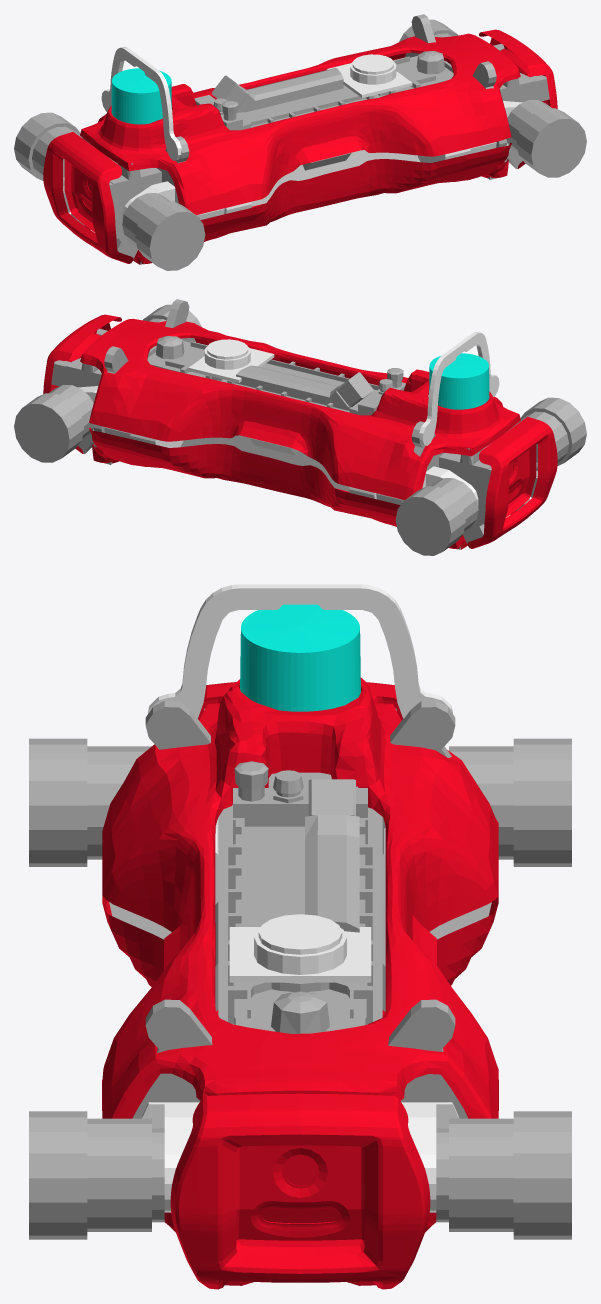
Rendered from anymal_base.dae.
3 renders of one model, top to bottom at view 1: azimuth 30°, elevation 25°; view 2: azimuth 150°, elevation 25°; view 3: azimuth 270°, elevation 25°, orthographic. The views are drawn at different scales.
Parts seen in each view (by area): view 1: top_shell, base, bottom_shell, face_shell_rear, RH_HFE_drive, RF_HFE_drive, lidar, LH_HFE_drive, inspection_payload_mount, lidar.001, face_shell_front, battery (+4 smaller); view 2: top_shell, base, bottom_shell, face_shell_rear, LH_HFE_drive, LF_HFE_drive, lidar, RH_HFE_drive, inspection_payload_mount, lidar.001, face_shell_front, battery (+4 smaller); view 3: top_shell, base, face_shell_front, LF_HFE_drive, RF_HFE_drive, lidar, LH_HFE_drive, RH_HFE_drive, lidar.001, inspection_payload_mount, bottom_shell, LF_hip_fixed (+4 smaller).
Boxes of the visible parts, x1=… form: top_shell: x1=80, y1=33, x2=520, y2=214; base: x1=63, y1=14, x2=549, y2=264; bottom_shell: x1=133, y1=142, x2=511, y2=264; face_shell_rear: x1=43, y1=132, x2=133, y2=263; RH_HFE_drive: x1=122, y1=193, x2=205, y2=270; RF_HFE_drive: x1=506, y1=99, x2=586, y2=177; lidar: x1=111, y1=68, x2=171, y2=124; LH_HFE_drive: x1=14, y1=112, x2=82, y2=185; inspection_payload_mount: x1=326, y1=54, x2=412, y2=97; lidar.001: x1=101, y1=46, x2=181, y2=160; face_shell_front: x1=479, y1=29, x2=557, y2=168; battery: x1=251, y1=150, x2=420, y2=206; top_shell: x1=80, y1=318, x2=520, y2=499; base: x1=51, y1=299, x2=537, y2=549; bottom_shell: x1=89, y1=427, x2=467, y2=549; face_shell_rear: x1=467, y1=417, x2=557, y2=548; LH_HFE_drive: x1=395, y1=478, x2=478, y2=555; LF_HFE_drive: x1=14, y1=384, x2=94, y2=462; lidar: x1=429, y1=353, x2=489, y2=409; RH_HFE_drive: x1=518, y1=397, x2=586, y2=470; inspection_payload_mount: x1=188, y1=339, x2=274, y2=382; lidar.001: x1=419, y1=331, x2=499, y2=445; face_shell_front: x1=43, y1=314, x2=121, y2=453; battery: x1=180, y1=435, x2=349, y2=491; top_shell: x1=102, y1=677, x2=498, y2=1118; base: x1=132, y1=700, x2=467, y2=1282; face_shell_front: x1=170, y1=1093, x2=430, y2=1289; LF_HFE_drive: x1=436, y1=1111, x2=571, y2=1239; RF_HFE_drive: x1=29, y1=1111, x2=164, y2=1239; lidar: x1=240, y1=604, x2=360, y2=711; LH_HFE_drive: x1=449, y1=738, x2=571, y2=866; RH_HFE_drive: x1=29, y1=738, x2=151, y2=866; lidar.001: x1=148, y1=584, x2=452, y2=718; inspection_payload_mount: x1=229, y1=914, x2=371, y2=982; bottom_shell: x1=102, y1=893, x2=498, y2=1285; LF_hip_fixed: x1=401, y1=1102, x2=459, y2=1212.
Size of the model in its own units: 0.8967 by 0.4596 by 0.343.
